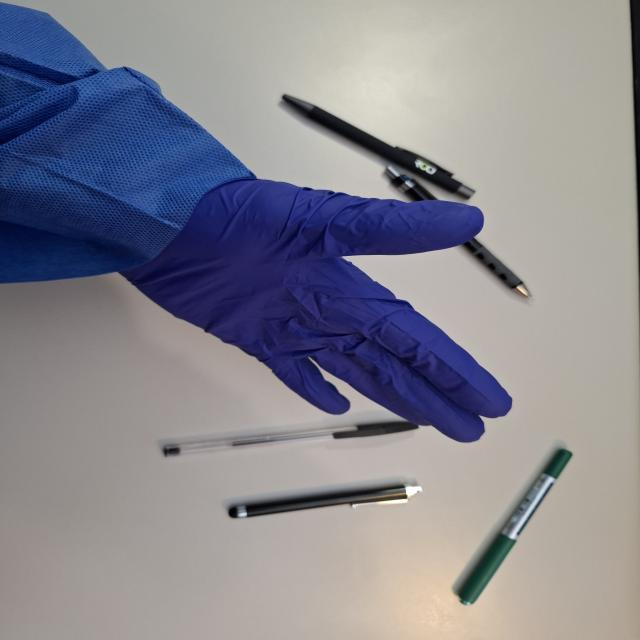glove_on: (109, 170, 518, 440)
